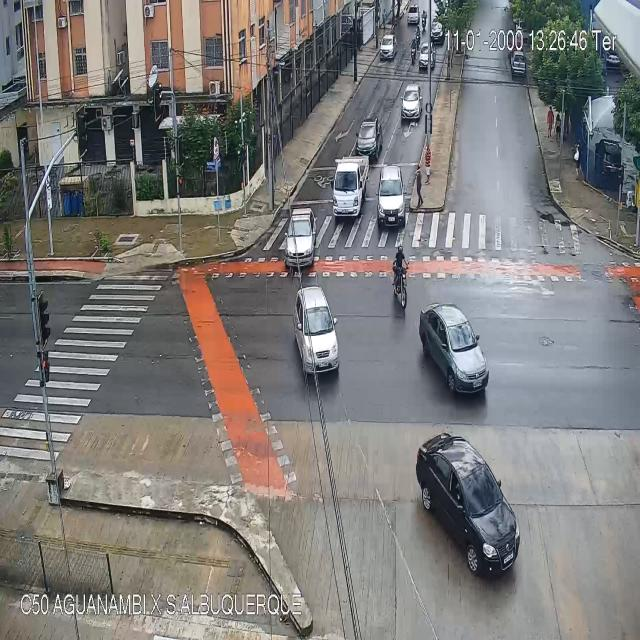Car: (416, 434, 520, 576), (419, 304, 489, 398), (292, 285, 338, 375), (376, 165, 405, 232), (284, 209, 316, 269), (355, 118, 383, 158), (401, 82, 422, 124), (380, 32, 397, 60), (418, 43, 436, 68), (430, 21, 446, 43), (512, 54, 526, 74), (407, 4, 419, 26)
Motorcycle: (392, 245, 409, 308), (411, 38, 416, 67), (421, 9, 427, 32), (416, 24, 420, 44)
Truck: (330, 153, 368, 217)
